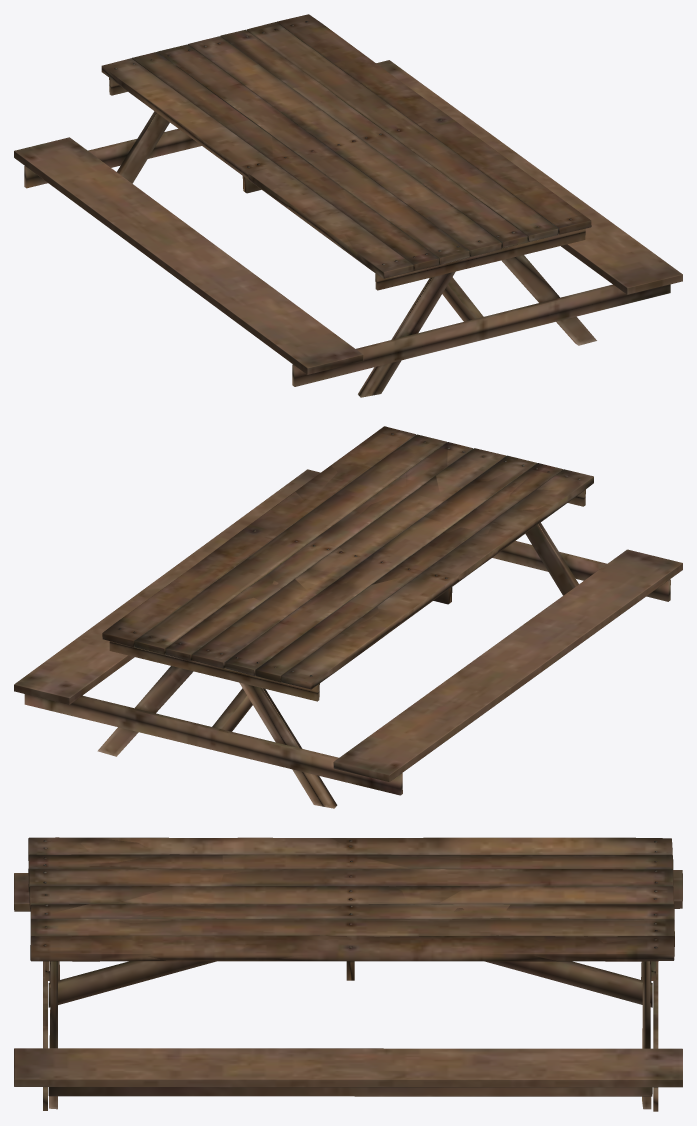
Rendered from ph-wooden_picnic_table.glb.
The picture shows the model from 3 angles, top to bottom: view 1: azimuth 30°, elevation 25°; view 2: azimuth 150°, elevation 25°; view 3: azimuth 270°, elevation 25°; orthographic projection. The views are drawn at different scales.
Parts seen in each view (by area): view 1: wooden_picnic_table (×2); view 2: wooden_picnic_table (×2); view 3: wooden_picnic_table (×2).
Part boxes in pixels (<box>): wooden_picnic_table (×2): <box>14,14,682,397</box>; wooden_picnic_table (×2): <box>14,426,682,808</box>; wooden_picnic_table (×2): <box>14,837,682,1111</box>.
Size of the model in its own units: 1.33 by 0.4439 by 1.8.
2 materials, 2 textured.
